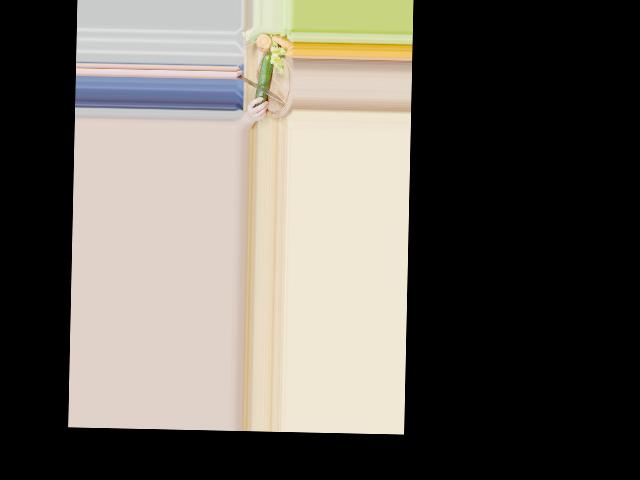cucumber: (254, 53, 272, 107)
